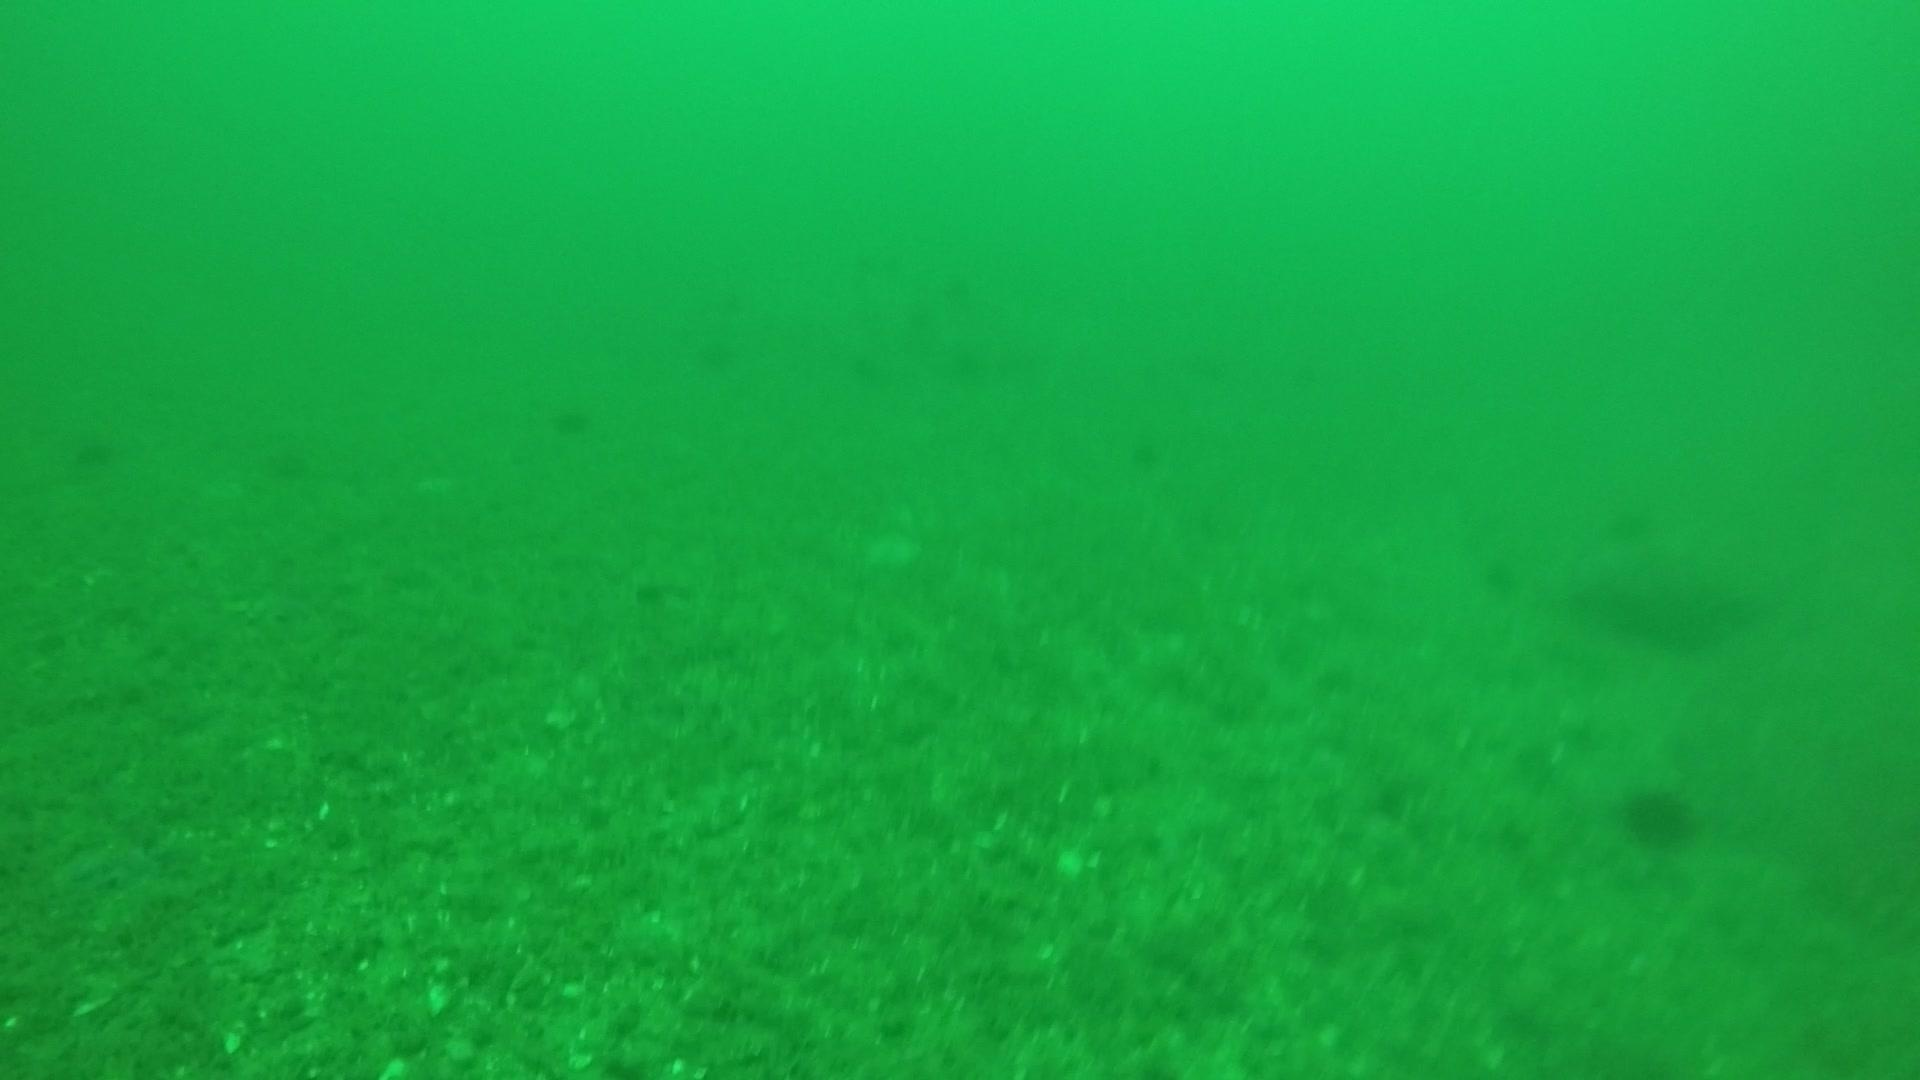echinus: (1618, 778, 1700, 851), (546, 394, 597, 440), (261, 439, 313, 485), (70, 427, 121, 473)
